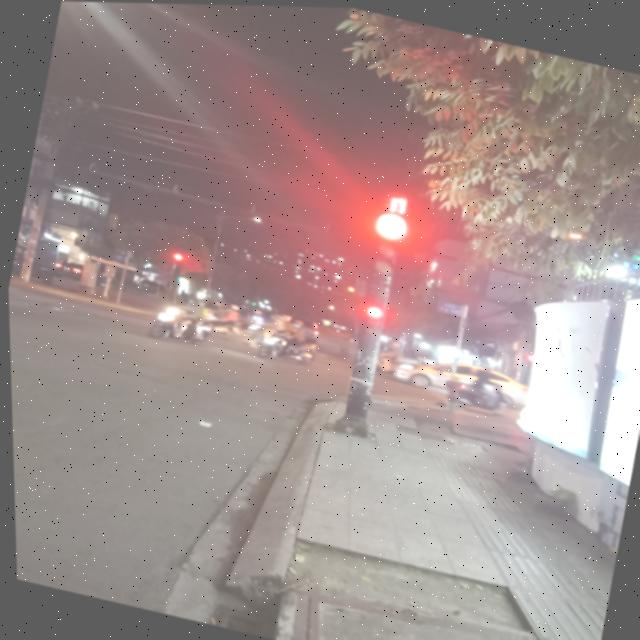Red: (361, 209, 408, 284), (354, 297, 389, 344)
